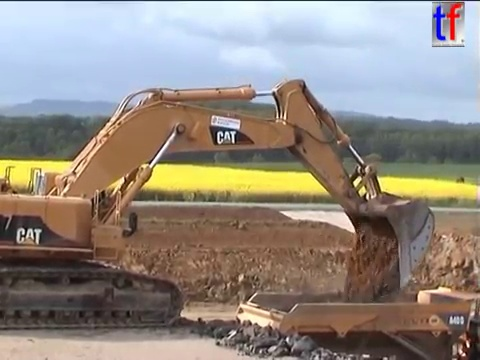excavator: (1, 75, 438, 333)
truck: (234, 284, 480, 360)
